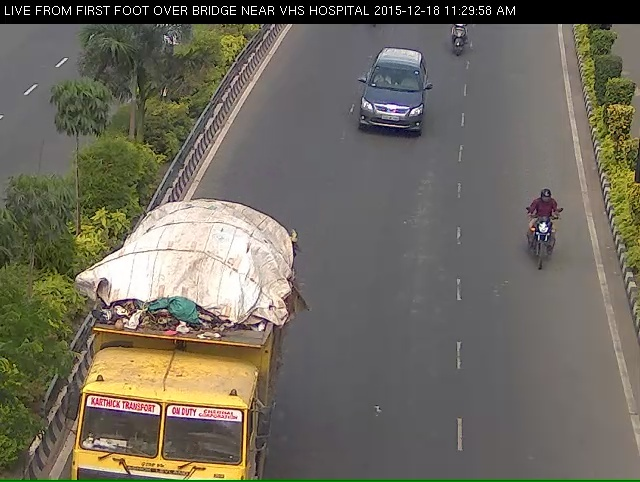Bus: (60, 207, 275, 481)
Car: (350, 45, 434, 154)
Person: (523, 209, 568, 304)
